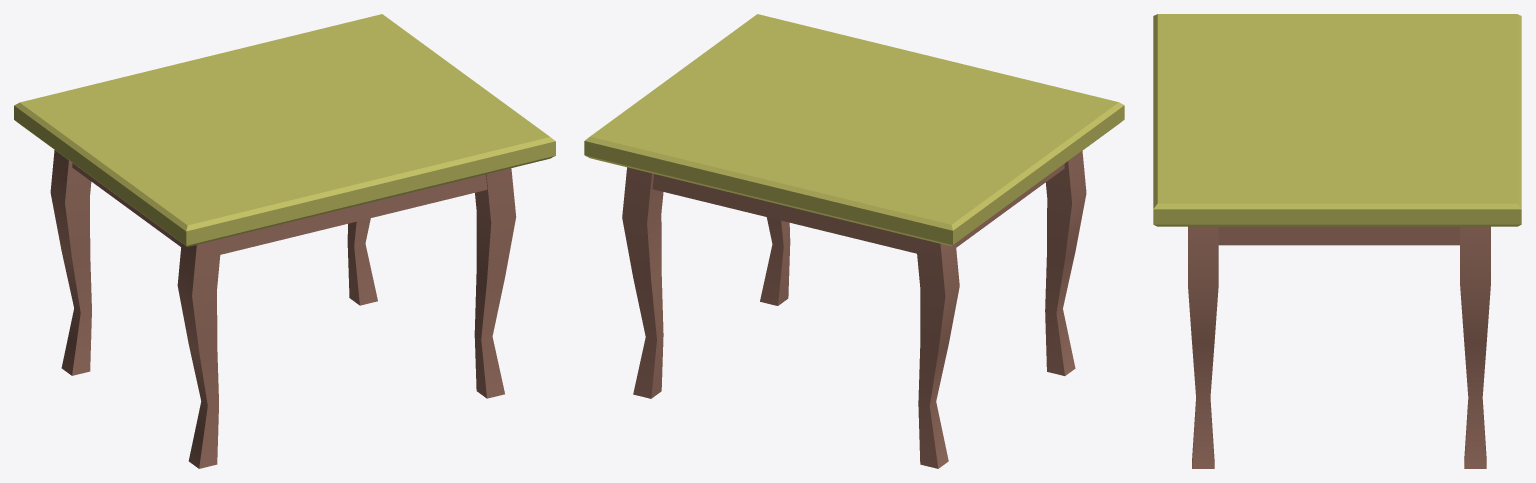
File: Table.fbx
3 renders of one model, left to right at view 1: azimuth 30°, elevation 25°; view 2: azimuth 150°, elevation 25°; view 3: azimuth 270°, elevation 25°, orthographic. The views are drawn at different scales.
Parts seen in each view (by area): view 1: polySurface1, polySurface5, polySurface3, polySurface6, polySurface2, polySurface4; view 2: polySurface1, polySurface6, polySurface4, polySurface5, polySurface2, polySurface3; view 3: polySurface1, polySurface4, polySurface3, polySurface2.
Part boxes in pixels (<box>): polySurface1: <box>14,14,555,246</box>; polySurface5: <box>177,239,221,468</box>; polySurface3: <box>474,168,516,398</box>; polySurface6: <box>50,150,91,375</box>; polySurface2: <box>72,163,487,254</box>; polySurface4: <box>347,218,377,305</box>; polySurface1: <box>584,14,1124,246</box>; polySurface6: <box>915,238,959,468</box>; polySurface4: <box>622,167,663,398</box>; polySurface5: <box>1045,151,1086,375</box>; polySurface2: <box>652,164,1064,253</box>; polySurface3: <box>760,217,790,305</box>; polySurface1: <box>1153,14,1521,226</box>; polySurface4: <box>1460,226,1490,468</box>; polySurface3: <box>1188,226,1218,468</box>; polySurface2: <box>1218,226,1459,245</box>.
Size of the model in its own units: 11.15 by 7.56 by 8.99.
